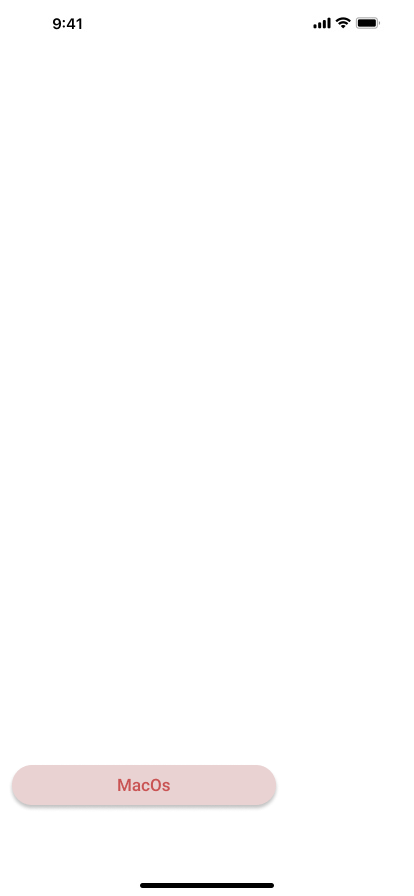Buttons: (8, 764, 284, 812)
Home Indicator: (0, 862, 414, 896)
Status Bar: (0, 0, 414, 44)
